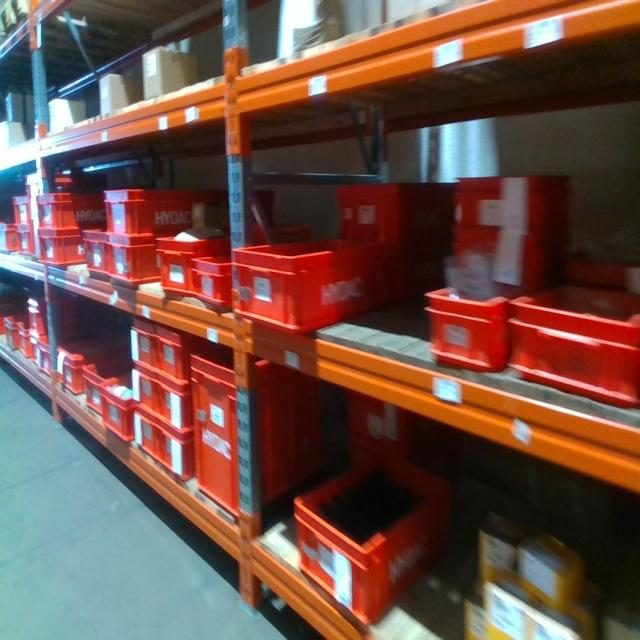pallet: (1, 1, 31, 45)
small_load_carrier: (292, 445, 457, 629), (192, 336, 316, 526), (505, 281, 640, 412), (229, 234, 384, 332), (446, 230, 577, 309), (446, 163, 574, 228), (425, 271, 510, 366), (335, 178, 444, 251), (340, 390, 426, 471), (153, 217, 231, 302), (100, 183, 217, 231), (58, 333, 135, 401), (84, 359, 133, 425), (154, 411, 197, 484), (106, 229, 159, 287), (192, 250, 238, 313), (153, 323, 197, 385), (152, 376, 197, 436), (38, 191, 101, 229), (100, 371, 136, 434), (36, 231, 90, 269), (25, 294, 75, 333), (126, 363, 157, 416), (128, 410, 158, 463), (132, 313, 156, 370), (86, 226, 111, 274), (36, 336, 58, 382), (12, 191, 32, 228), (3, 216, 20, 253), (14, 322, 31, 354), (4, 315, 18, 351), (17, 223, 32, 252), (30, 328, 41, 363)
